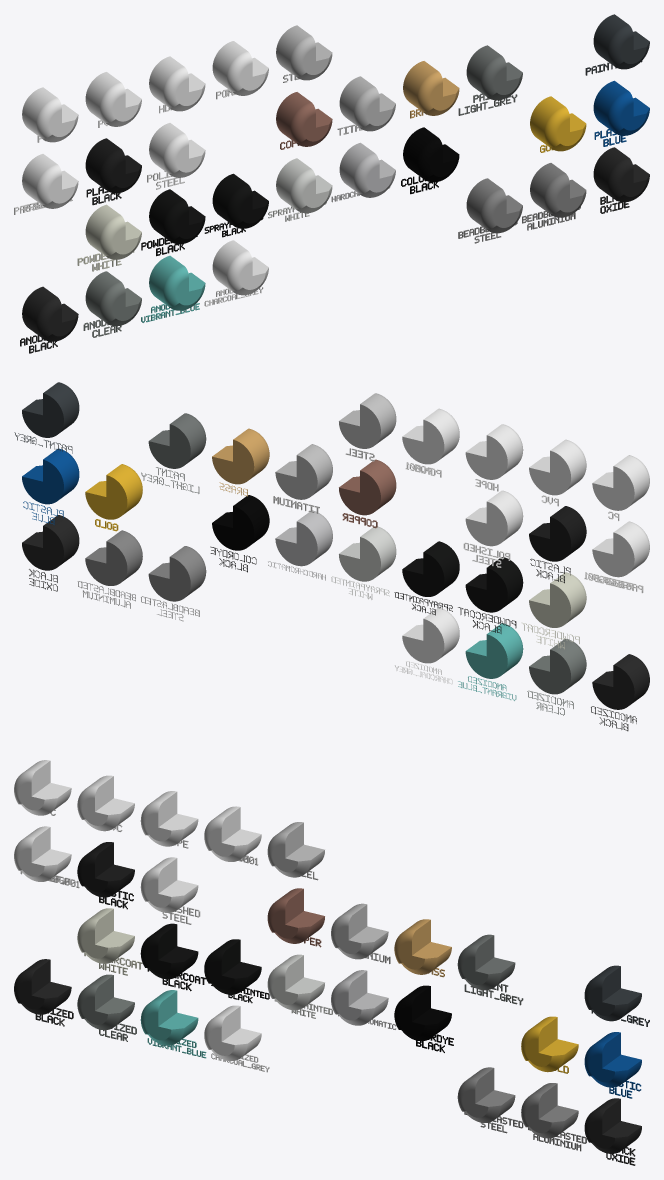
File: materials.gltf
The picture shows the model from 3 angles, top to bottom: view 1: azimuth 30°, elevation 25°; view 2: azimuth 150°, elevation 25°; view 3: azimuth 330°, elevation 25°; orthographic projection.
Visible parts, largest first — view 1: PLASTIC_BLACK, PAINT_GREY, PAINT_LIGHT_GREY, TITANIUM, BEADBLASTED_STEEL, BEADBLASTED_ALUMINIUM, POWDERCOAT_BLACK, BLACK_OXIDE, GOLD, BRASS, ANODIZED_VIBRANT_BLUE, SPRAYPAINTED_WHITE (+16 smaller); view 2: HDPE, PAINT_LIGHT_GREY, POLISHED_STEEL, POM, ANODIZED_BLACK, ANODIZED_VIBRANT_BLUE, SPRAYPAINTED_BLACK, TITANIUM, BRASS, PC, PVC, BEADBLASTED_STEEL (+16 smaller); view 3: POWDERCOAT_BLACK, ANODIZED_VIBRANT_BLUE, HDPE, PAINT_LIGHT_GREY, BEADBLASTED_STEEL, POLISHED_STEEL, PA630GF, ANODIZED_BLACK, PC, HARDCHROMATIC, TITANIUM, GOLD (+16 smaller).
Boxes of the visible parts, x1,y1,x2,y2 form: PLASTIC_BLACK: [85, 138, 141, 193]; PAINT_GREY: [593, 14, 649, 69]; PAINT_LIGHT_GREY: [466, 45, 522, 100]; TITANIUM: [339, 76, 395, 131]; BEADBLASTED_STEEL: [466, 178, 522, 233]; BEADBLASTED_ALUMINIUM: [530, 163, 586, 217]; POWDERCOAT_BLACK: [149, 189, 205, 244]; BLACK_OXIDE: [593, 147, 649, 202]; GOLD: [530, 96, 586, 151]; BRASS: [403, 61, 459, 115]; ANODIZED_VIBRANT_BLUE: [149, 255, 205, 310]; SPRAYPAINTED_WHITE: [276, 158, 332, 213]; HDPE: [465, 424, 523, 479]; PAINT_LIGHT_GREY: [148, 413, 206, 468]; POLISHED_STEEL: [465, 490, 523, 546]; POM: [402, 408, 459, 464]; ANODIZED_BLACK: [592, 654, 649, 709]; ANODIZED_VIBRANT_BLUE: [465, 623, 523, 678]; SPRAYPAINTED_BLACK: [402, 541, 459, 596]; TITANIUM: [275, 444, 332, 499]; BRASS: [212, 428, 269, 484]; PC: [592, 455, 649, 510]; PVC: [529, 439, 586, 495]; BEADBLASTED_STEEL: [148, 546, 206, 601]; POWDERCOAT_BLACK: [140, 923, 198, 979]; ANODIZED_VIBRANT_BLUE: [140, 990, 198, 1045]; HDPE: [140, 791, 198, 846]; PAINT_LIGHT_GREY: [457, 934, 515, 990]; BEADBLASTED_STEEL: [457, 1067, 515, 1122]; POLISHED_STEEL: [140, 857, 198, 912]; PA630GF: [14, 826, 71, 881]; ANODIZED_BLACK: [14, 959, 71, 1014]; PC: [14, 760, 71, 815]; HARDCHROMATIC: [331, 970, 388, 1025]; TITANIUM: [331, 903, 388, 959]; GOLD: [521, 1016, 578, 1072].
Size of the model in its own units: 38.45 by 15.32 by 2.
